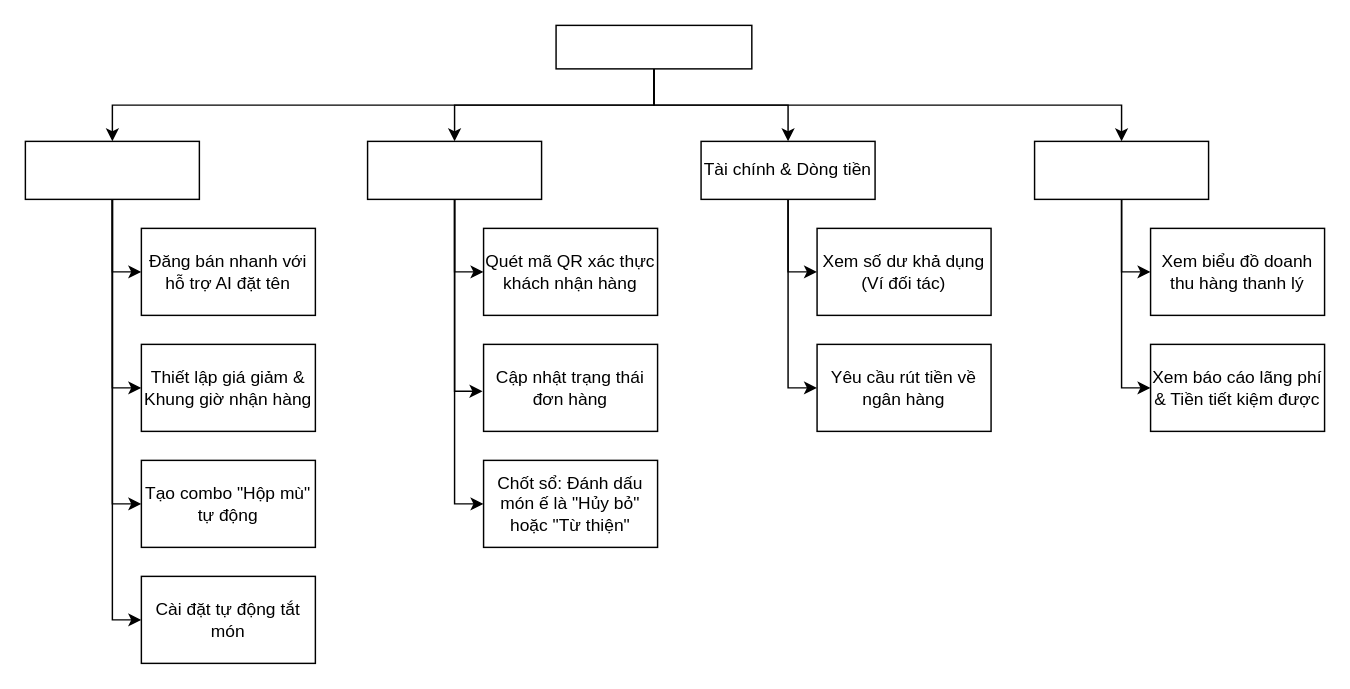
Some shapes in this 1350 by 689 pixel diagram are drawn without their labels. The box of each missing label's shape, as (x1, y1, x2, y2) in pixels:
Báo cáo & Thống kê: (1033, 140, 1209, 199)
Quản lý Kho hàng & Đăng bán: (24, 140, 199, 199)
Quản lý Vận hành: (366, 140, 542, 199)
Đối tác (Chủ cửa hàng): (555, 24, 752, 69)
